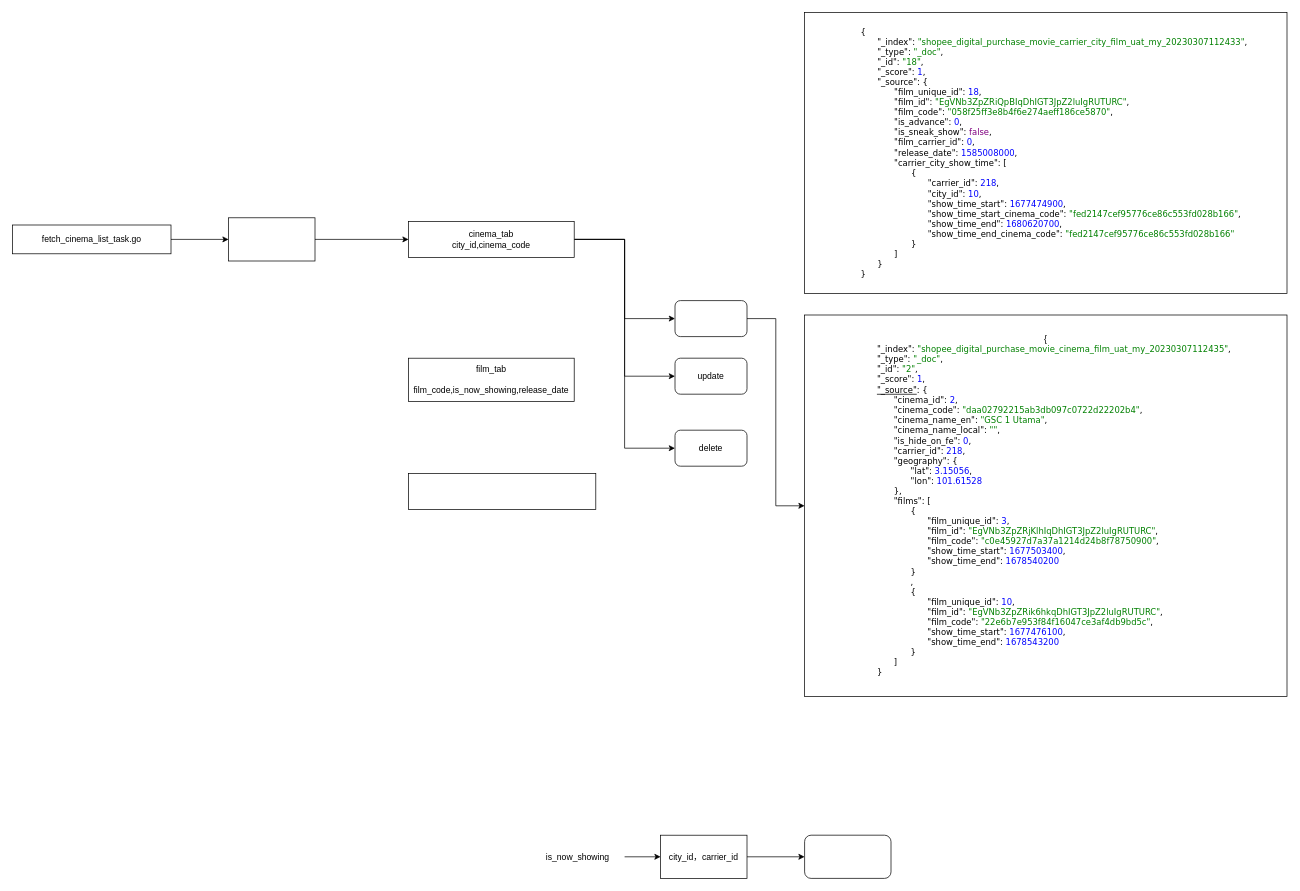
Some shapes in this 1300 by 891 pixel diagram are drawn without their labels. Here are the shapes that lost their labels. From the top down, the centre of each, then its label:
point 271,239: 遍历供应商全量的cinema 列表
point 710,318: insert
point 502,491: session_tab cinema_code,film_code,show_time
point 847,856: city_carrier_index
